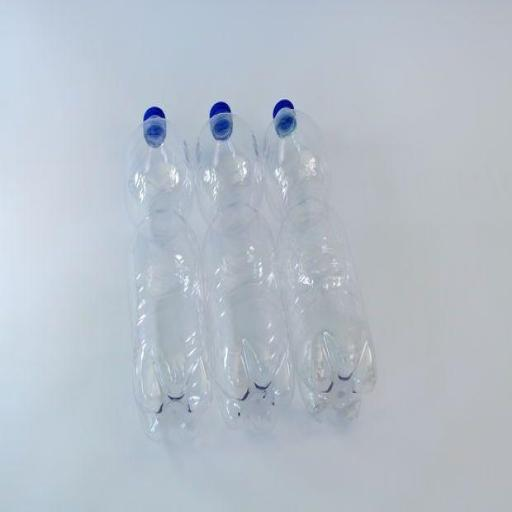plastic bottle: (263, 108, 378, 425), (195, 113, 296, 432), (126, 119, 212, 444)
plastic bottle cap: (208, 99, 232, 124), (272, 99, 296, 121), (144, 106, 166, 124)
